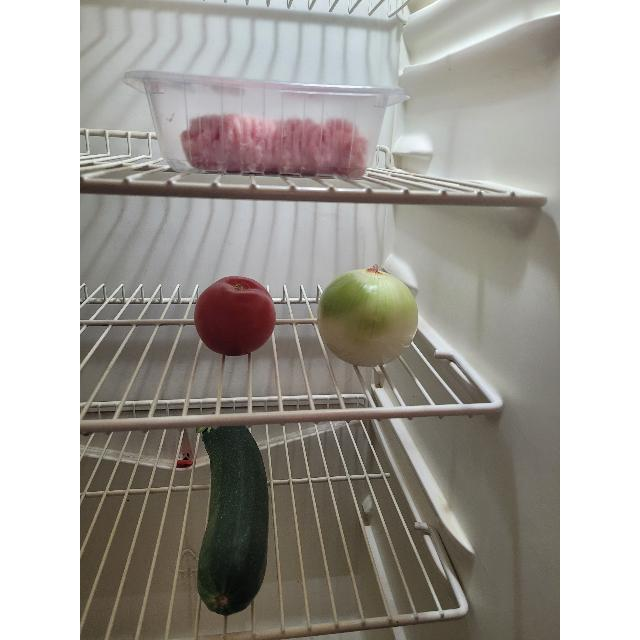meat: (184, 118, 360, 176)
onion: (321, 267, 414, 367)
tomato: (192, 277, 272, 353)
zucchini: (202, 418, 270, 618)
